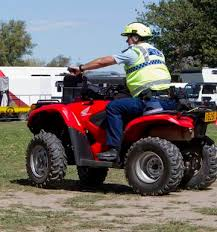helmet: (123, 25, 159, 45)
